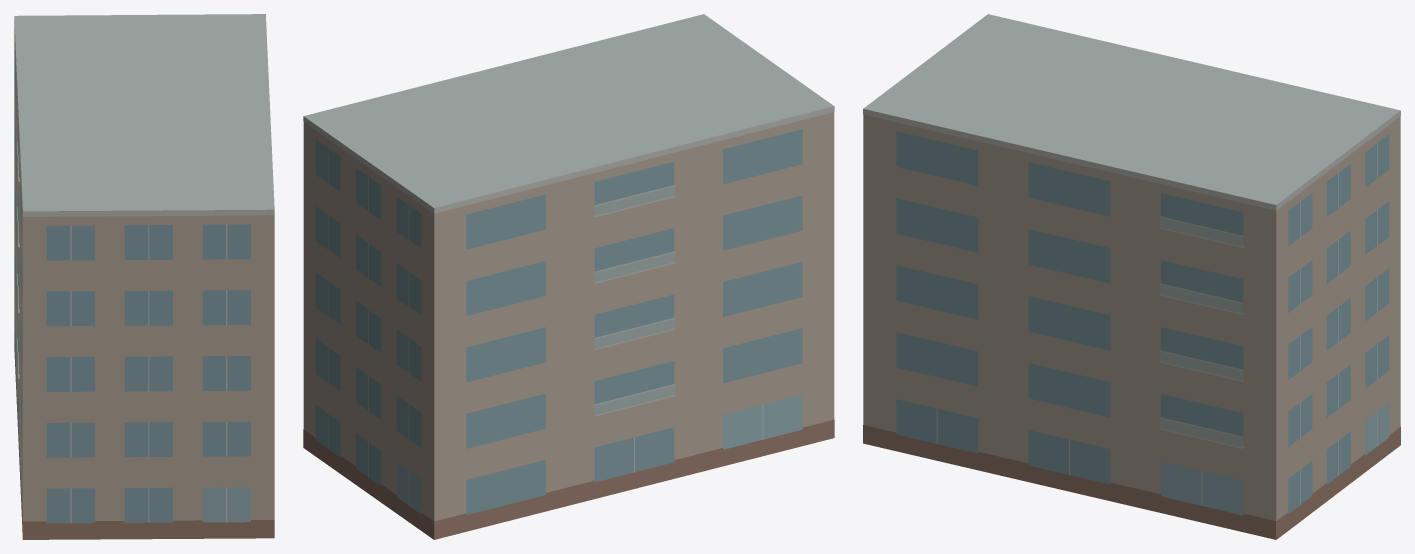
File: survey-upis-32868467.glb
3 renders of one model, left to right at view 1: azimuth 30°, elevation 25°; view 2: azimuth 150°, elevation 25°; view 3: azimuth 270°, elevation 25°, orthographic.
Parts seen in each view (by area): view 1: survey-upis-32868467.tmp; view 2: survey-upis-32868467.tmp; view 3: survey-upis-32868467.tmp.
Part boxes in pixels (x1,y1,x2,y2): survey-upis-32868467.tmp: (14, 14, 274, 539); survey-upis-32868467.tmp: (303, 14, 834, 539); survey-upis-32868467.tmp: (863, 14, 1400, 539).
Bounding box in the file's own units: 17.46 × 14.25 × 20.75.
